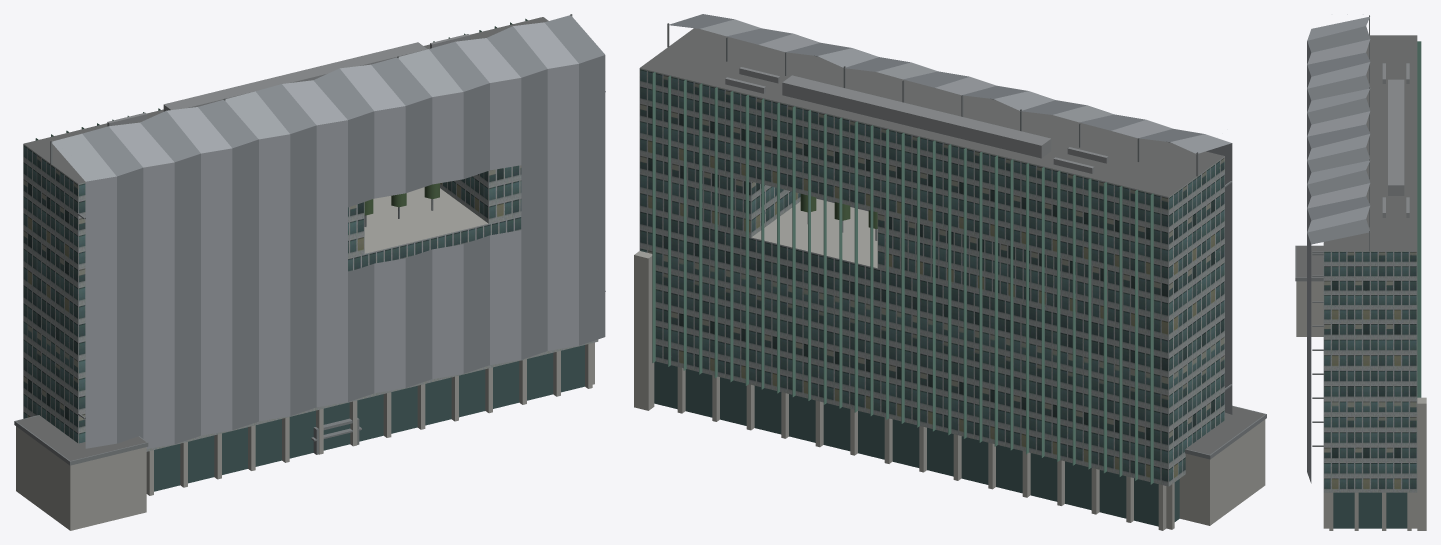
File: federal_building_sf.glb
3 views of the same model, side by side, from view 1: azimuth 30°, elevation 25°; view 2: azimuth 150°, elevation 25°; view 3: azimuth 270°, elevation 25° (orthographic). The views are drawn at different scales.
Visible parts, largest first — view 1: federal_building_sf; view 2: federal_building_sf; view 3: federal_building_sf.
Part boxes in pixels (left/top/right/bottom): federal_building_sf: left=14, top=14, right=605, bottom=530; federal_building_sf: left=634, top=14, right=1266, bottom=530; federal_building_sf: left=1295, top=14, right=1426, bottom=530.
Size of the model in its own units: 114 by 71 by 28.
2 materials, 2 textured.
